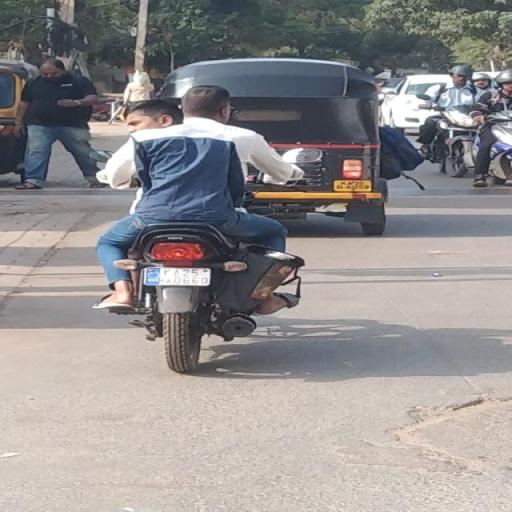bike: (86, 80, 328, 379)
numberplate: (146, 266, 208, 286)
withouthelmet: (126, 100, 180, 128), (185, 86, 229, 120)
